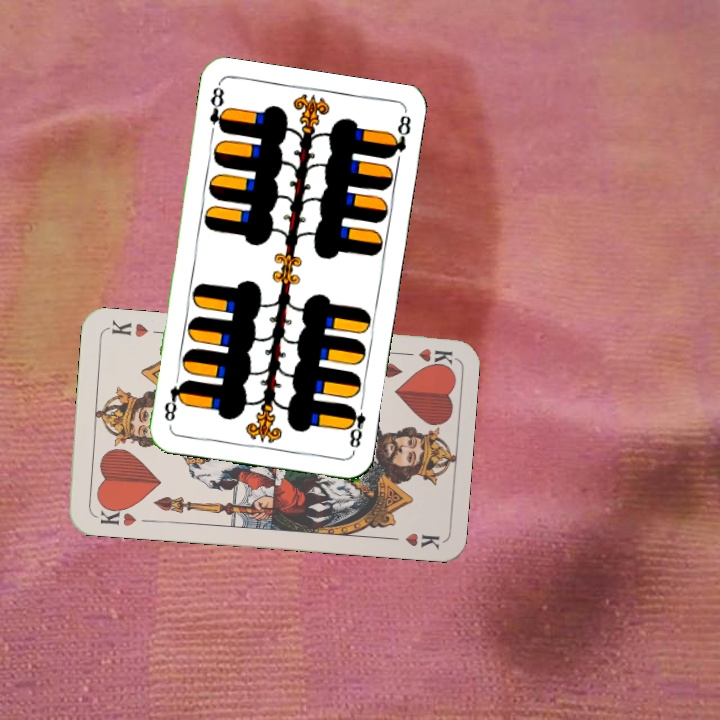E8: (342, 396, 368, 455), (205, 81, 230, 135)
HK: (395, 344, 454, 367), (92, 501, 139, 529)
